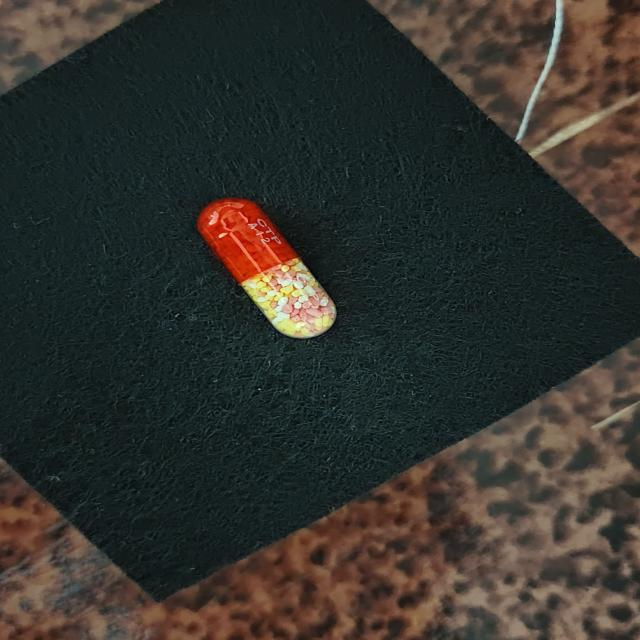Intact Capsule: (197, 198, 337, 339)
